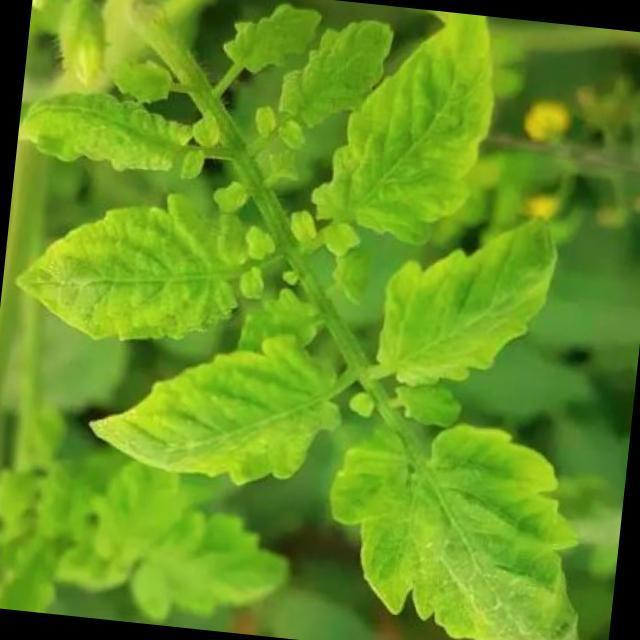Yellow Curl Virus: (306, 408, 597, 640), (310, 0, 532, 254), (12, 184, 260, 361), (88, 324, 350, 491), (369, 203, 575, 405), (273, 8, 401, 146), (14, 91, 190, 188), (224, 0, 320, 86)
